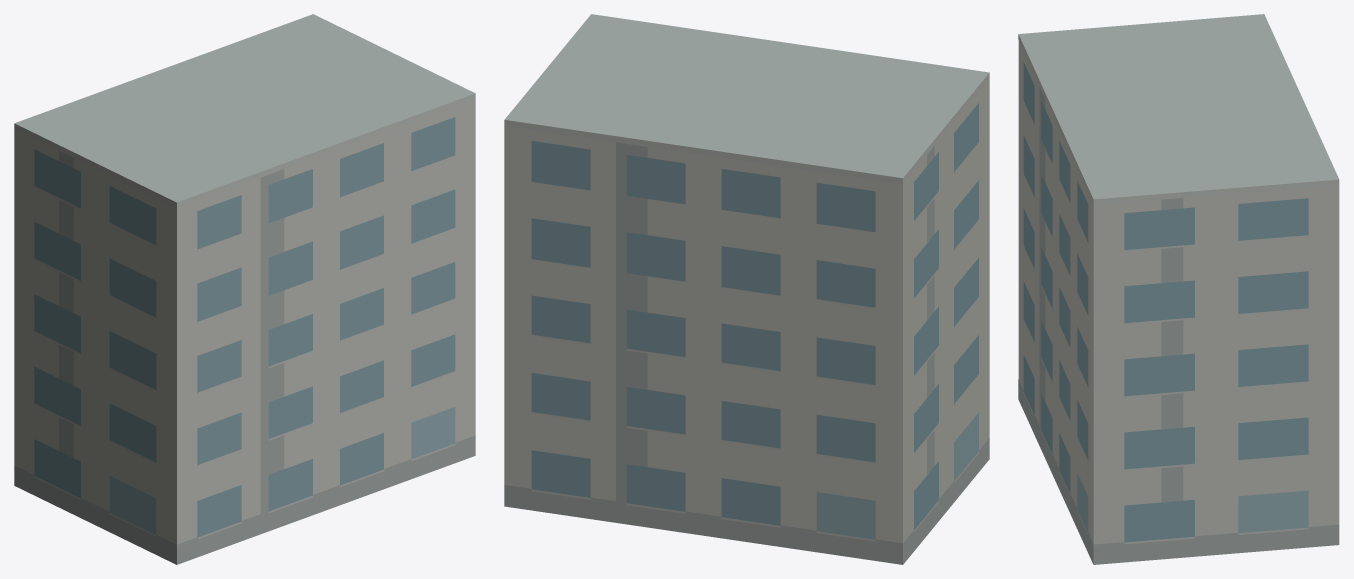
The model's file is residential-607e66d6-699d-4944-b655-8e26133feba6.glb.
3 views of the same model, side by side, from view 1: azimuth 30°, elevation 25°; view 2: azimuth 150°, elevation 25°; view 3: azimuth 270°, elevation 25° (orthographic). The views are drawn at different scales.
Visible parts, largest first — view 1: residential-607e66d6-699d-4944-b655-8e26133feba6.tmp; view 2: residential-607e66d6-699d-4944-b655-8e26133feba6.tmp; view 3: residential-607e66d6-699d-4944-b655-8e26133feba6.tmp.
Boxes of the visible parts, x1,y1,x2,y2 form: residential-607e66d6-699d-4944-b655-8e26133feba6.tmp: (14, 14, 475, 564); residential-607e66d6-699d-4944-b655-8e26133feba6.tmp: (504, 14, 989, 564); residential-607e66d6-699d-4944-b655-8e26133feba6.tmp: (1018, 14, 1339, 564).
Size of the model in its own units: 16.6 by 15.25 by 12.15.
